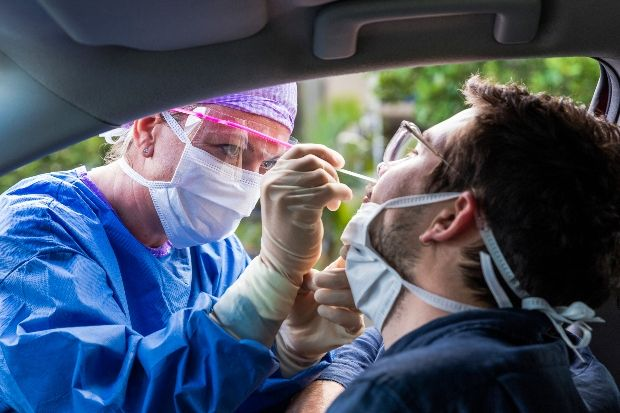Gloves: (218, 139, 356, 343), (274, 254, 362, 378)
Goggles: (168, 107, 316, 160)
mask_weared_incorrect: (340, 108, 474, 338)
with_mask: (155, 136, 277, 254)
